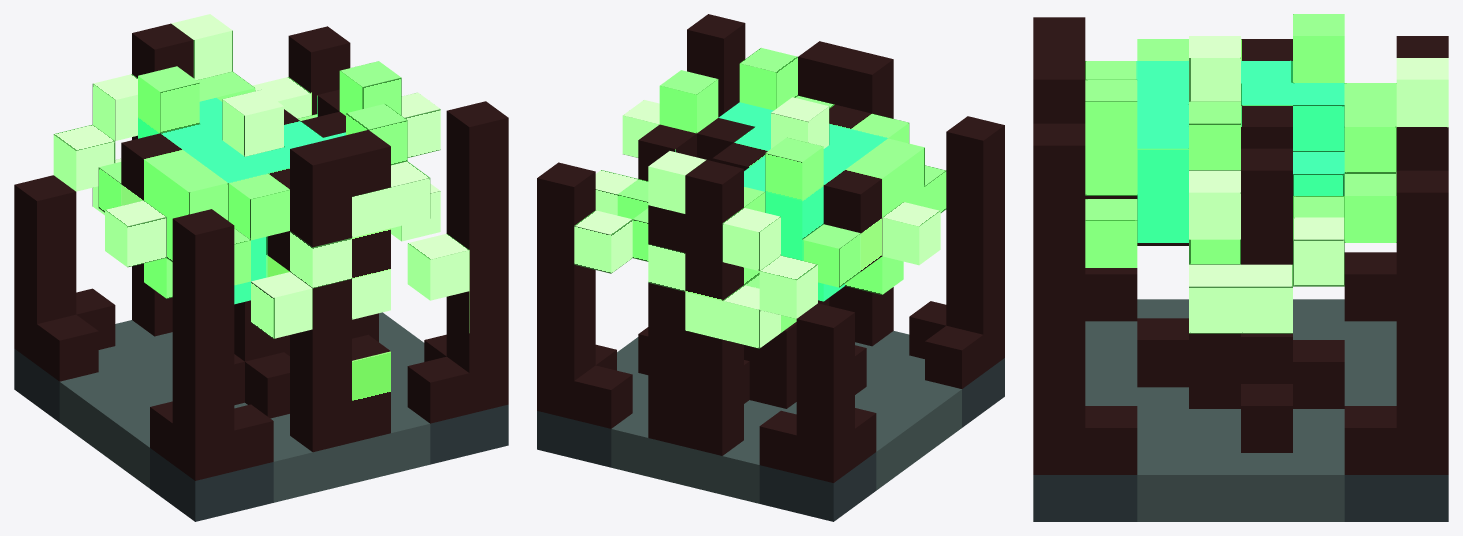
3 views of the same model, side by side, from view 1: azimuth 30°, elevation 25°; view 2: azimuth 150°, elevation 25°; view 3: azimuth 270°, elevation 25° (orthographic). The views are drawn at different scales.
Visible parts, largest first — view 1: forst3.vox; view 2: forst3.vox; view 3: forst3.vox.
Part boxes in pixels (bbox=[...]): forst3.vox: bbox=[14, 14, 508, 521]; forst3.vox: bbox=[537, 14, 1004, 521]; forst3.vox: bbox=[1033, 14, 1448, 521].
Size of the model in its own units: 0.8 by 0.8 by 0.8.
